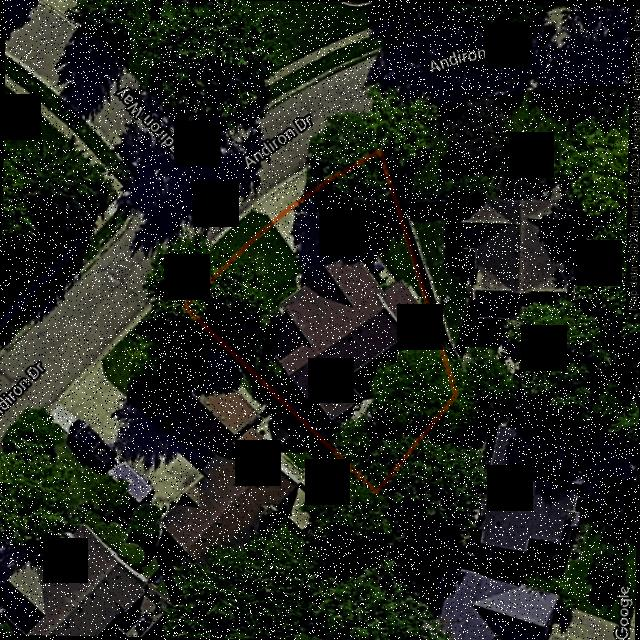Driveway: (273, 197, 348, 274)
Extra Driveway: (249, 166, 306, 221)
Extra Lawn: (212, 209, 268, 252)
House: (265, 260, 424, 418)
Sidewalk: (339, 238, 395, 284)
